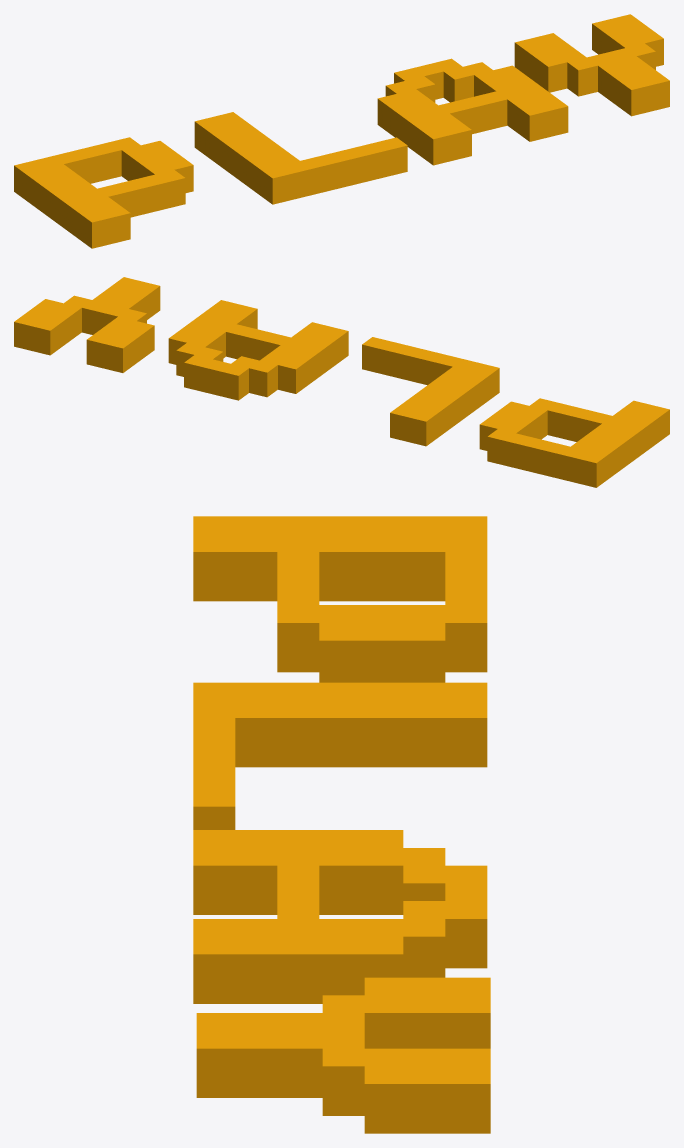
File: Play.obj
The picture shows the model from 3 angles, top to bottom: view 1: azimuth 30°, elevation 25°; view 2: azimuth 150°, elevation 25°; view 3: azimuth 270°, elevation 25°; orthographic projection. The views are drawn at different scales.
Parts seen in each view (by area): view 1: Play; view 2: Play; view 3: Play.
Boxes of the visible parts, x1,y1,x2,y2 form: Play: (14, 14, 669, 248); Play: (14, 277, 669, 487); Play: (193, 516, 490, 1133).
Size of the model in its own units: 2.46 by 0.1 by 0.5444.
